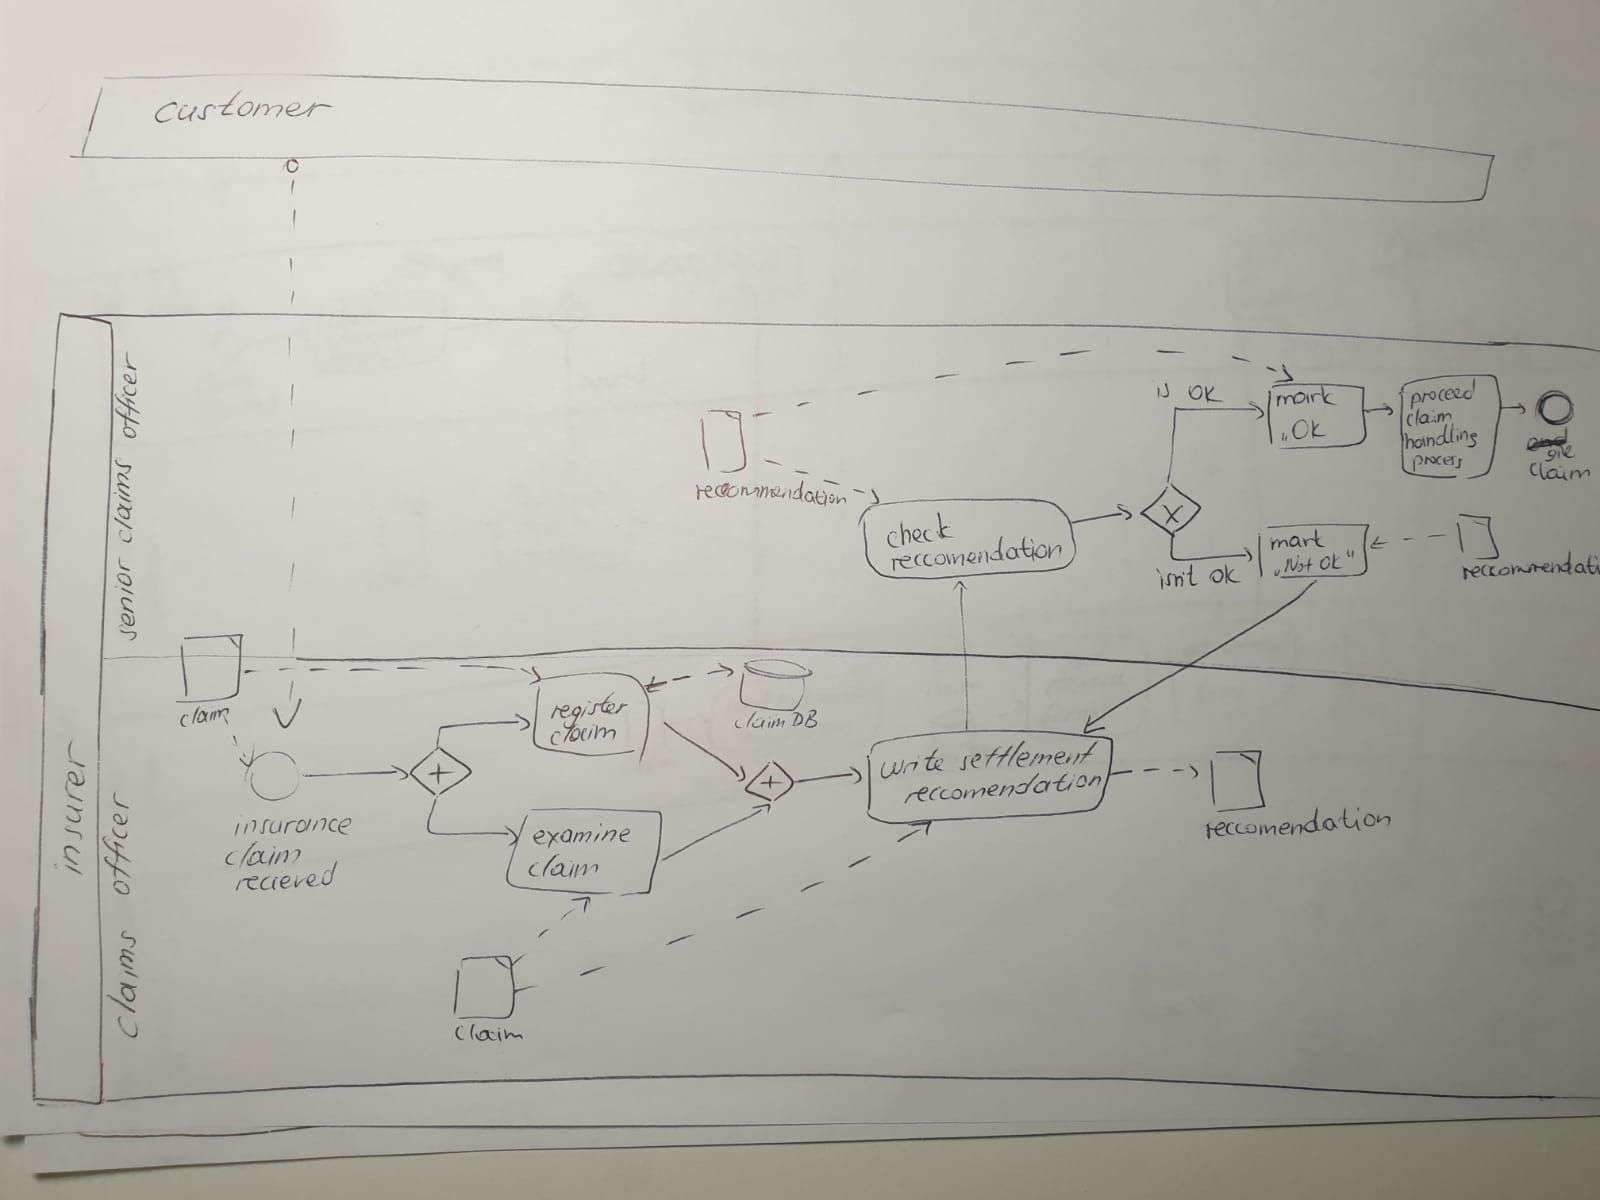DB: (787, 707, 823, 734)
Not: (1269, 553, 1318, 584)
OK: (1279, 413, 1330, 446), (1182, 379, 1230, 407)
Ok: (1314, 546, 1359, 576)
check: (881, 505, 963, 555)
claim: (218, 834, 307, 874), (522, 850, 607, 884), (546, 718, 622, 753), (449, 1018, 530, 1047), (1523, 458, 1596, 487), (175, 701, 236, 732), (728, 706, 790, 736), (1403, 405, 1456, 432)
claims: (102, 923, 147, 1046), (106, 451, 141, 550)
customer: (147, 84, 339, 130)
examine: (527, 817, 637, 855)
give: (1541, 442, 1580, 468)
handling: (1398, 418, 1482, 454)
insurance: (226, 811, 358, 842)
insurer: (47, 732, 94, 884)
is: (1150, 377, 1179, 403)
isn't: (1150, 561, 1204, 596)
mark: (1265, 524, 1330, 555), (1272, 382, 1340, 411)
officer: (98, 784, 139, 903), (108, 345, 146, 444)
ok: (1204, 561, 1243, 589)
proceed: (1406, 371, 1482, 416)
process: (1409, 450, 1468, 476)
reccomendation: (1199, 800, 1398, 848), (887, 531, 1068, 579), (901, 769, 1107, 809)
reccommendat: (1458, 546, 1597, 589)
recieved: (229, 857, 346, 901)
recommendation: (690, 474, 852, 513)
register: (546, 688, 634, 734)
senior: (110, 550, 144, 647)
settlement: (954, 734, 1106, 776)
write: (874, 744, 951, 787)
